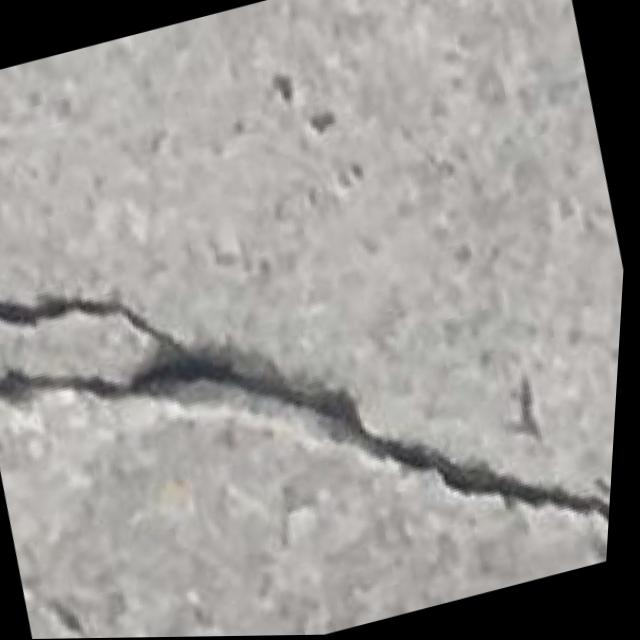Crack: (0, 138, 633, 640)
